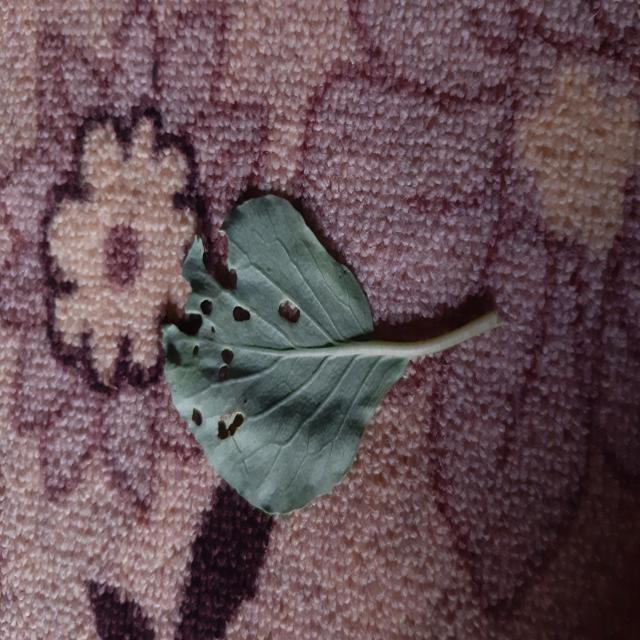Kohlrabi: (162, 196, 499, 513)
